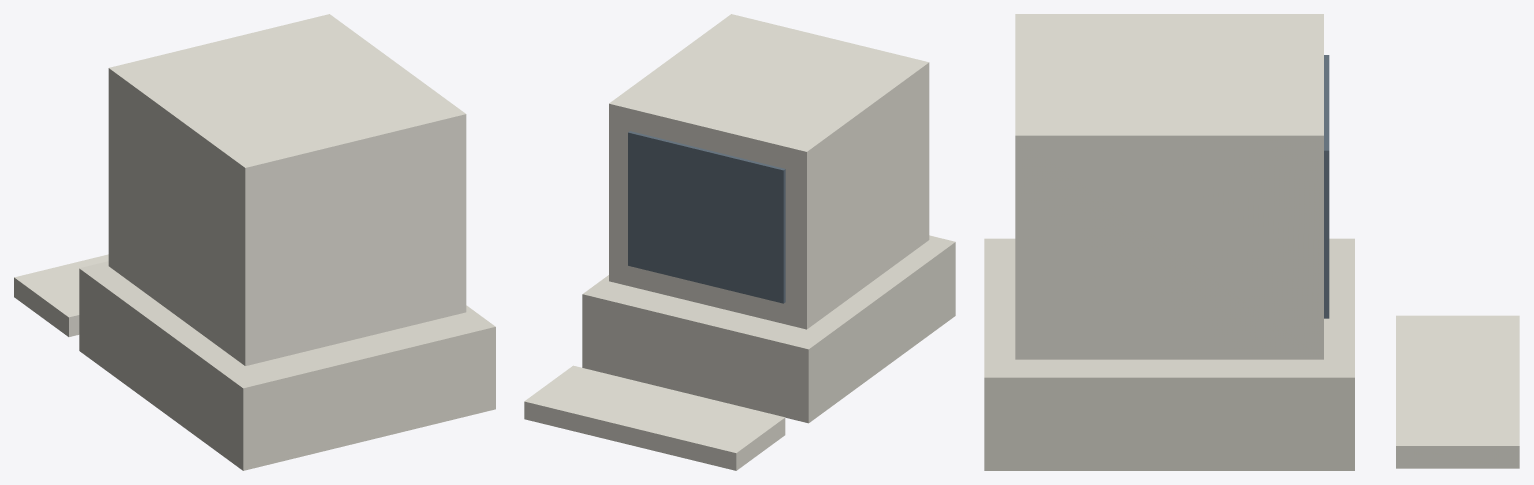
The model's file is komputer_crt.fbx.
3 views of the same model, side by side, from view 1: azimuth 30°, elevation 25°; view 2: azimuth 150°, elevation 25°; view 3: azimuth 270°, elevation 25° (orthographic). The views are drawn at different scales.
Visible parts, largest first — view 1: Cube; view 2: Cube; view 3: Cube.
Boxes of the visible parts, bbox=[...] form: Cube: bbox=[14, 14, 495, 470]; Cube: bbox=[524, 14, 955, 470]; Cube: bbox=[984, 14, 1519, 470].
Size of the model in its own units: 1.6 by 1.76 by 2.6.
